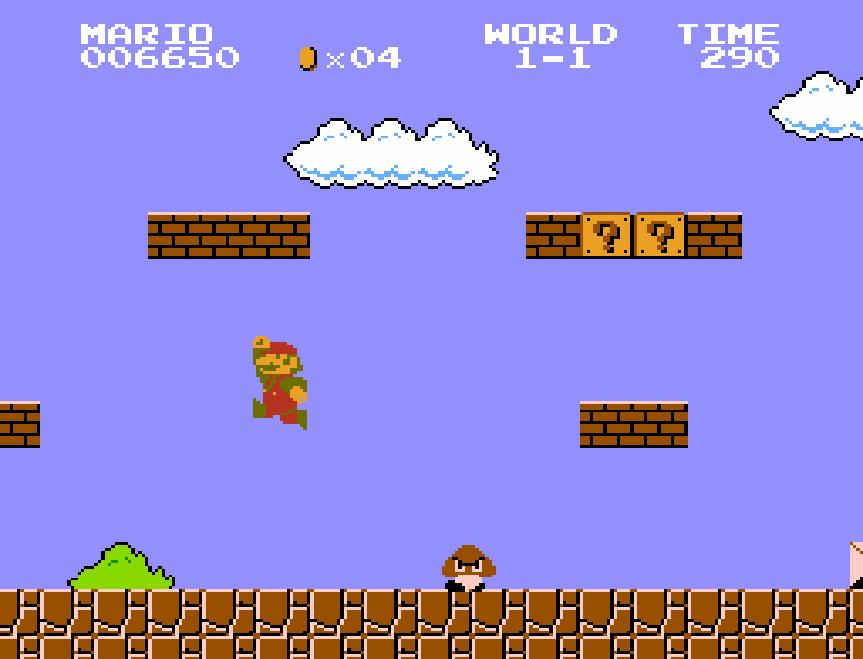big_mario: (250, 334, 308, 432)
